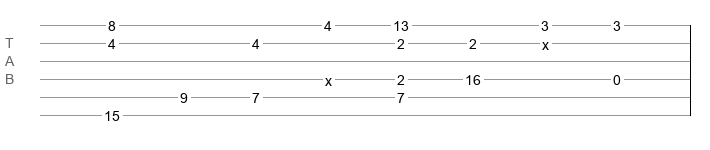0: (613, 72, 621, 82)
13: (393, 18, 409, 28)
15: (104, 108, 120, 118)
16: (465, 72, 481, 82)
2: (397, 36, 405, 46), (397, 72, 405, 82), (469, 36, 477, 46)
3: (541, 18, 549, 28), (613, 18, 621, 28)
4: (108, 36, 116, 46), (252, 36, 260, 46), (324, 18, 332, 28)
7: (252, 90, 260, 100), (397, 90, 405, 100)
8: (108, 18, 116, 28)
9: (180, 90, 188, 100)
x: (325, 73, 332, 81), (542, 37, 549, 45)
